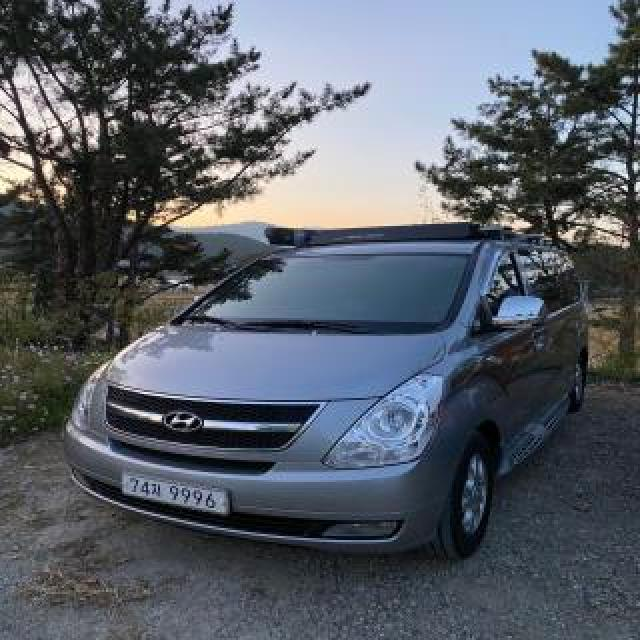car: (57, 216, 598, 574)
illegal_plate: (121, 468, 228, 524)
